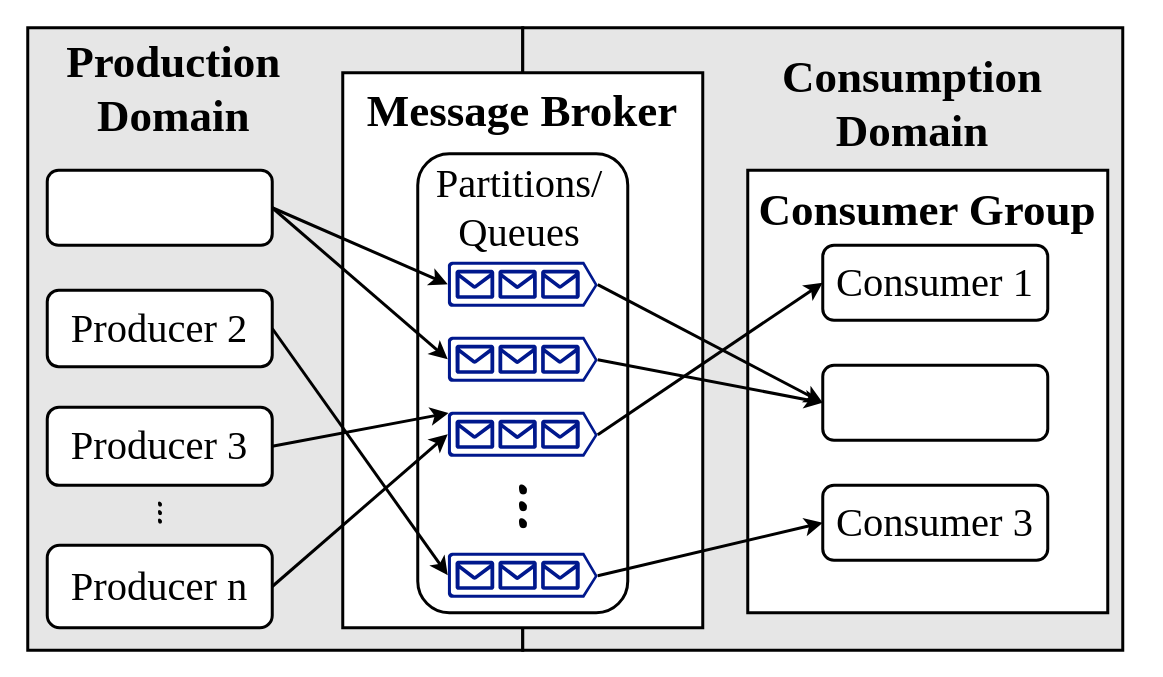
This 1163x677 diagram has some shape labels left out. Here are the shapes that lost their labels. From the top down, the box of each, then its label:
(45, 168, 273, 246): Producer 1
(820, 363, 1048, 441): Consumer 2
